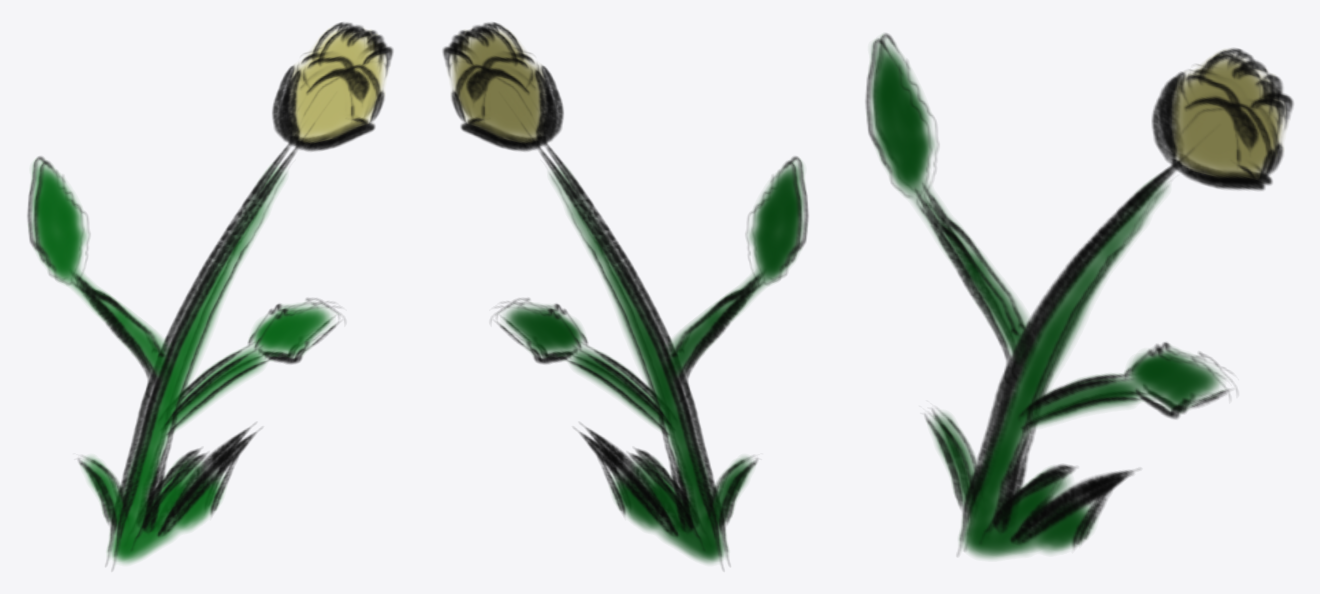
File: SM_PlantProp_04.glb
3 views of the same model, side by side, from view 1: azimuth 30°, elevation 25°; view 2: azimuth 150°, elevation 25°; view 3: azimuth 330°, elevation 25° (orthographic). The views are drawn at different scales.
Parts seen in each view (by area): view 1: T_Plant_04; view 2: T_Plant_04; view 3: T_Plant_04.
Part boxes in pixels (box(x1,y1,x2,y2)): T_Plant_04: box(27, 22, 393, 569); T_Plant_04: box(442, 22, 808, 569); T_Plant_04: box(865, 33, 1293, 558).
Size of the model in its own units: 0.5296 by 0.6609 by 0.015.
1 material, 1 textured.
